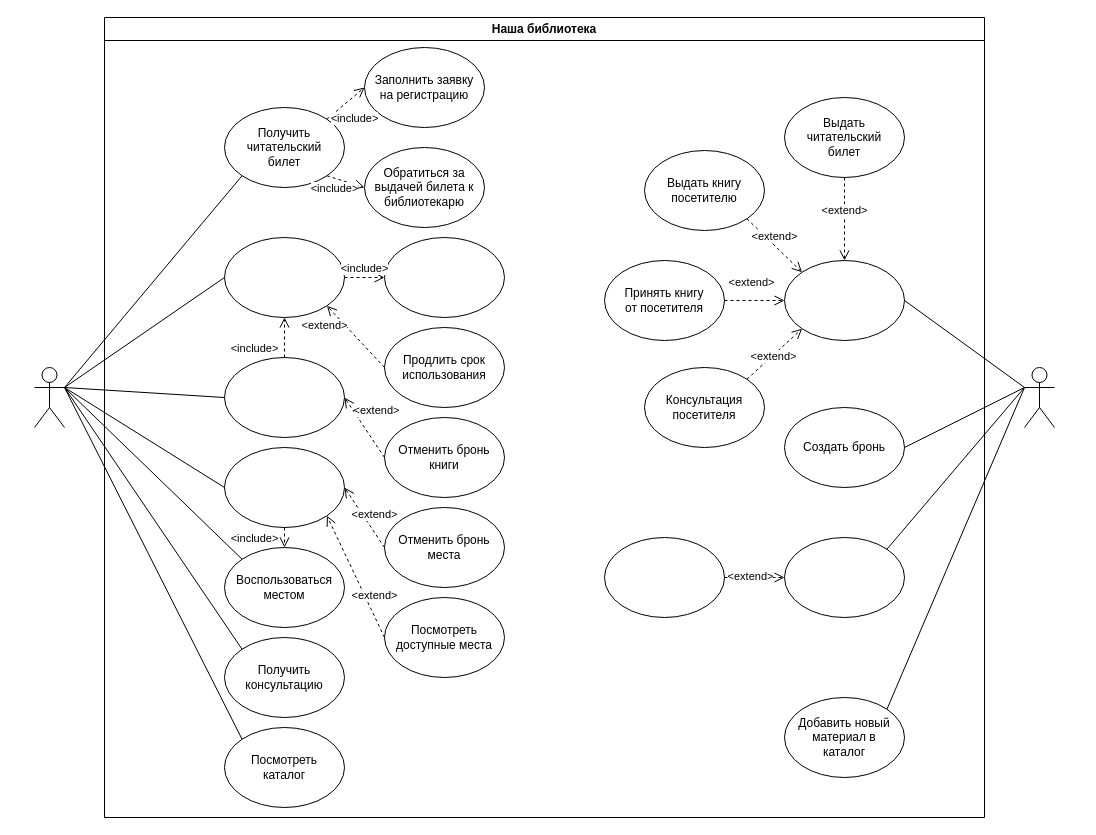
Image size: 1096x835. Some labels were removed from this diagram. The centre of each missing label's shape, as x and y in pixels:
Библиотекарь: pixel 1039 397
Вернуть книгу: pixel 444 277
Взять книгу во временное пользование: pixel 284 277
Зарезервировать книгу: pixel 284 397
Зарезервировать место в библиотеке: pixel 284 487
Изменить бронь: pixel 844 577
Посетитель: pixel 49 397
Работа с посетителем: pixel 844 300
Удалить бронь: pixel 664 577
